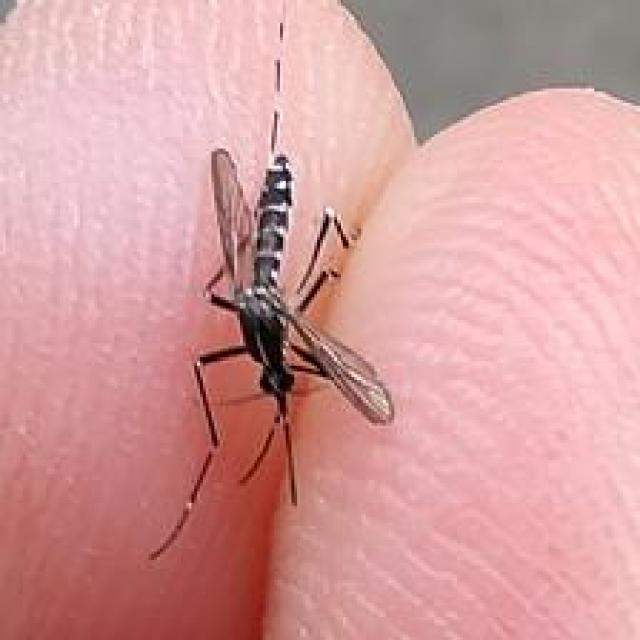Aedes albopictus: (147, 19, 396, 562)
